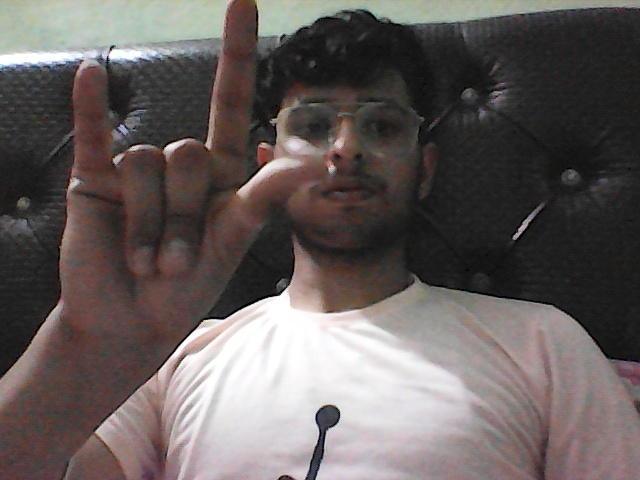iloveyou: (28, 1, 348, 412)
